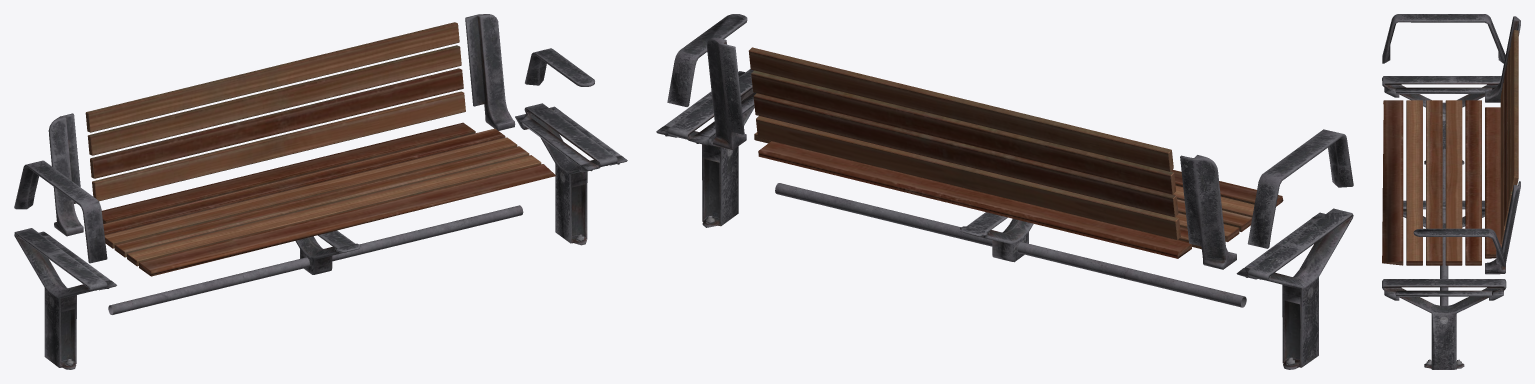
Rendered from bench.glb.
The picture shows the model from 3 angles, left to right: view 1: azimuth 30°, elevation 25°; view 2: azimuth 150°, elevation 25°; view 3: azimuth 270°, elevation 25°; orthographic projection. The views are drawn at different scales.
Parts seen in each view (by area): view 1: seat, crossbar, legs_double; view 2: seat, crossbar, legs_double; view 3: seat, legs_double, crossbar.
Boxes of the visible parts, box(x1,y1,x2,y2) form: seat: box(85, 22, 555, 276); crossbar: box(14, 14, 594, 314); legs_double: box(14, 103, 627, 369); seat: box(748, 47, 1283, 258); crossbar: box(667, 14, 1353, 307); legs_double: box(656, 69, 1353, 369); seat: box(1382, 30, 1518, 265); legs_double: box(1382, 76, 1506, 369); crossbar: box(1382, 14, 1520, 305).
Bounding box in the file's own units: 2.45 × 0.8669 × 0.6704.
3 materials, 3 textured.
